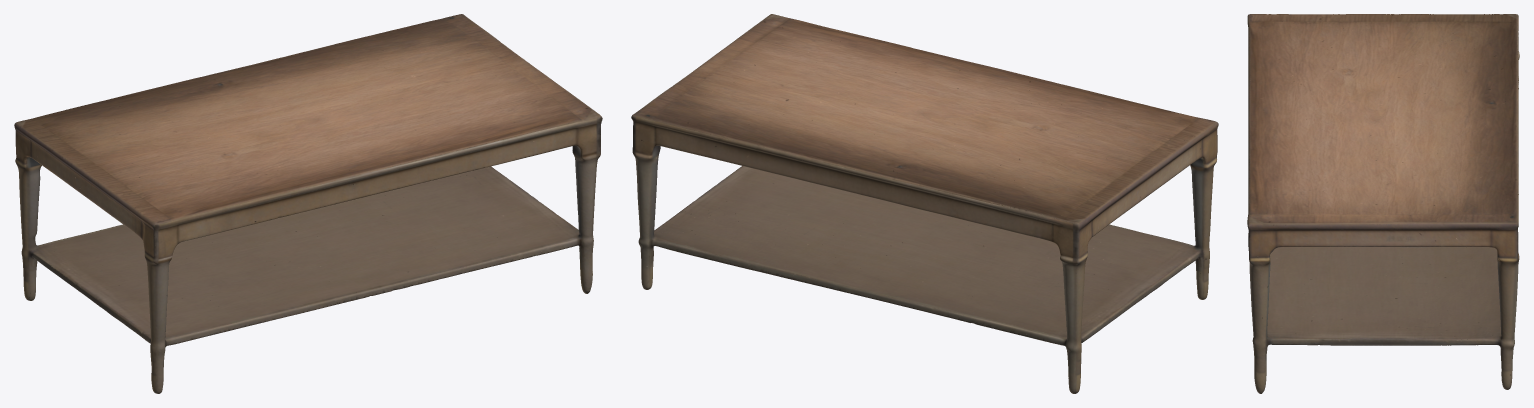
The model's file is Two_Tone_Wood_Coffee__Table.glb.
The picture shows the model from 3 angles, left to right: view 1: azimuth 30°, elevation 25°; view 2: azimuth 150°, elevation 25°; view 3: azimuth 270°, elevation 25°; orthographic projection. The views are drawn at different scales.
Bounding box in the file's own units: 2 × 0.7748 × 1.09.
Materials: 1 (1 with a texture image).
